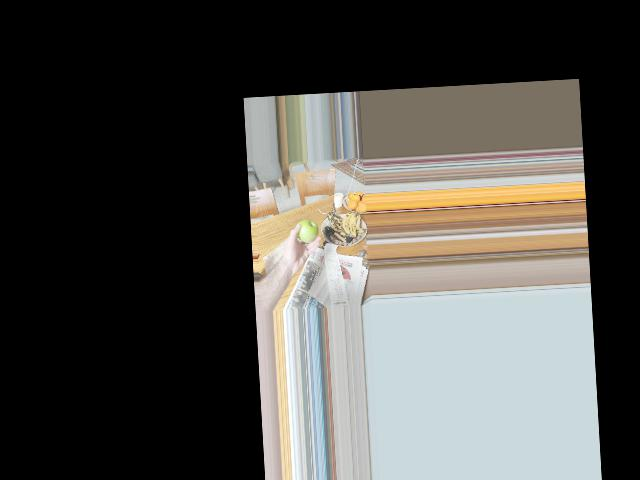apple: (292, 217, 319, 247)
